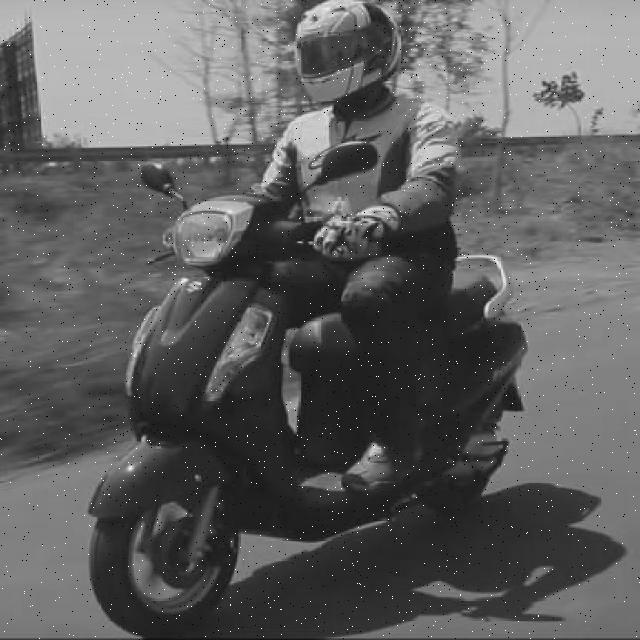Motorbike: (88, 0, 529, 638)
